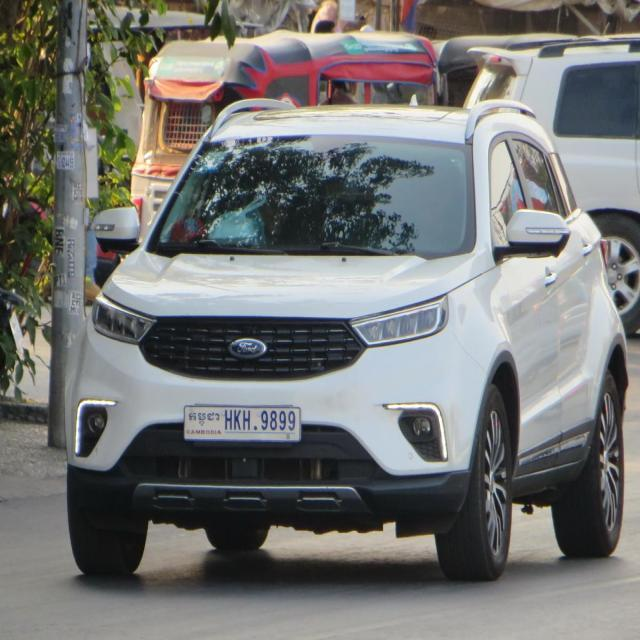Cambodia: (187, 410, 220, 427)
